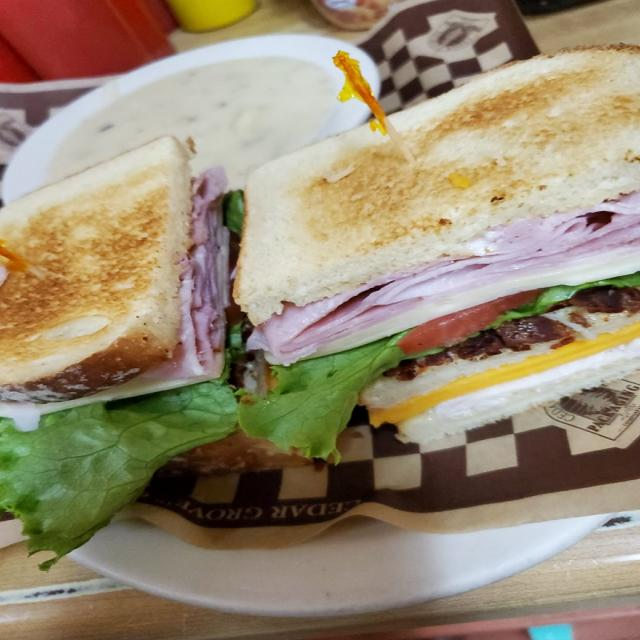Sandwich: (4, 68, 639, 502)
